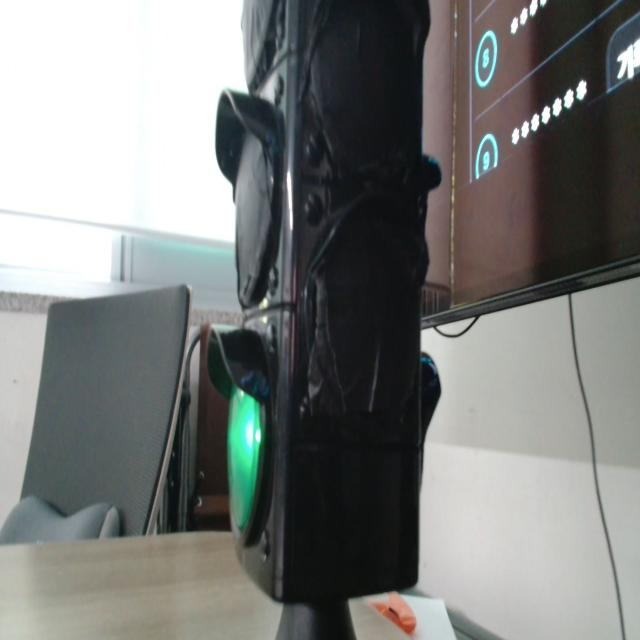green_light: (228, 387, 262, 531)
